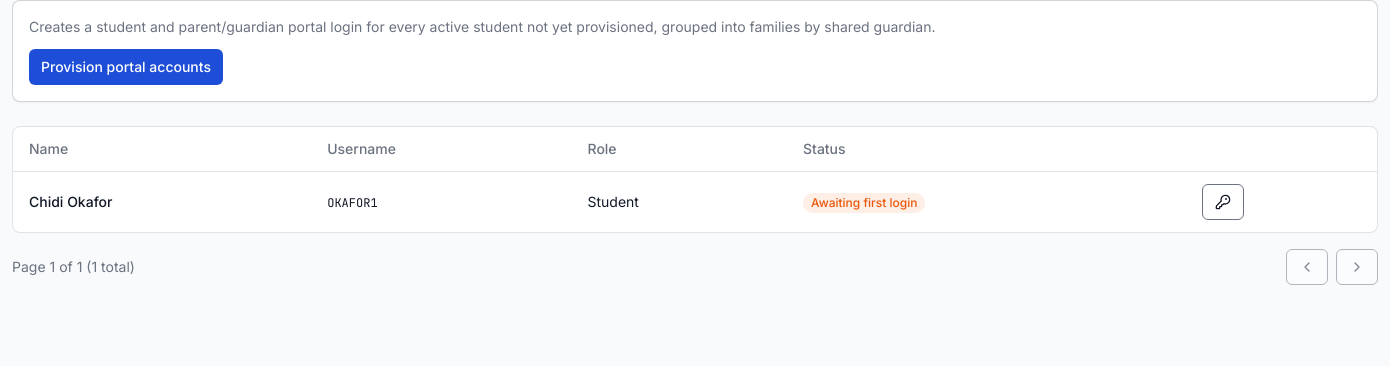
Test: PortalAccountsSettingsPage › the alreadyProvisioned line is absent when nobody was already provisioned
The width and height of the screenshot is (1390, 366).
Click the button "Provision portal accounts". click: (126, 67)
box: x1=29 y1=49 x2=223 y2=85
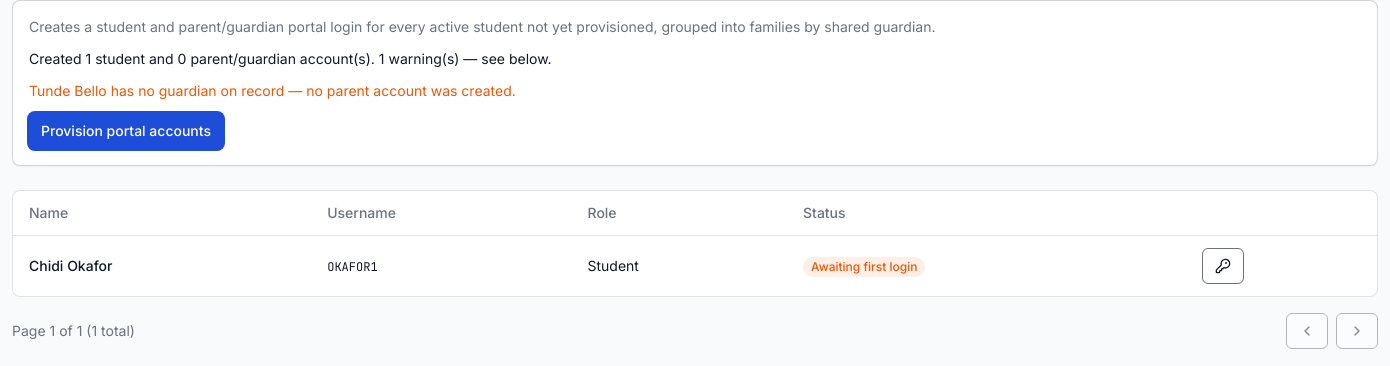
Check: the text "Created 1 student and 0 parent/guardian account" is shown, box x1=29 y1=50 x2=552 y2=67
